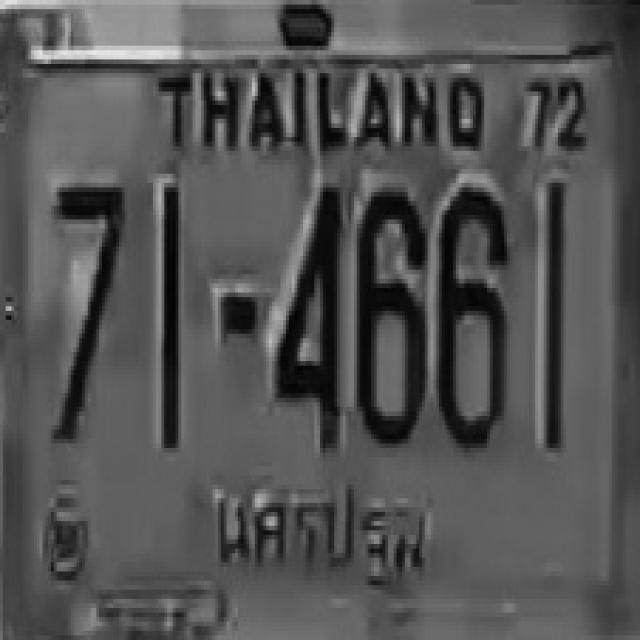1: (541, 178, 563, 444), (158, 178, 178, 444)
4: (272, 180, 340, 446)
6: (354, 183, 425, 443), (436, 183, 507, 443)
7: (51, 180, 122, 437)
NakhonPathom: (202, 469, 436, 602)
